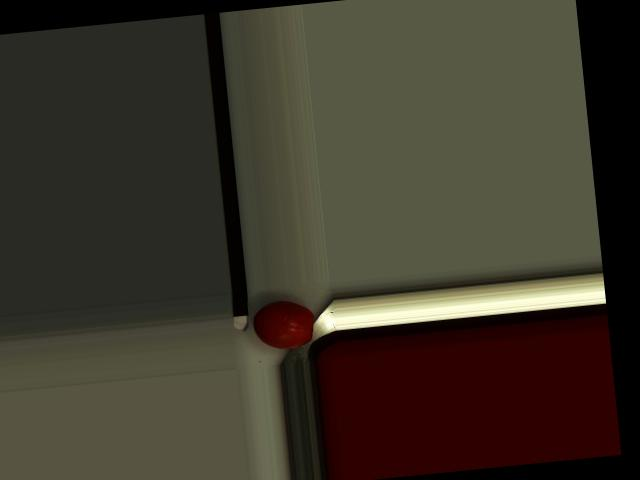tomato: (251, 297, 317, 352)
